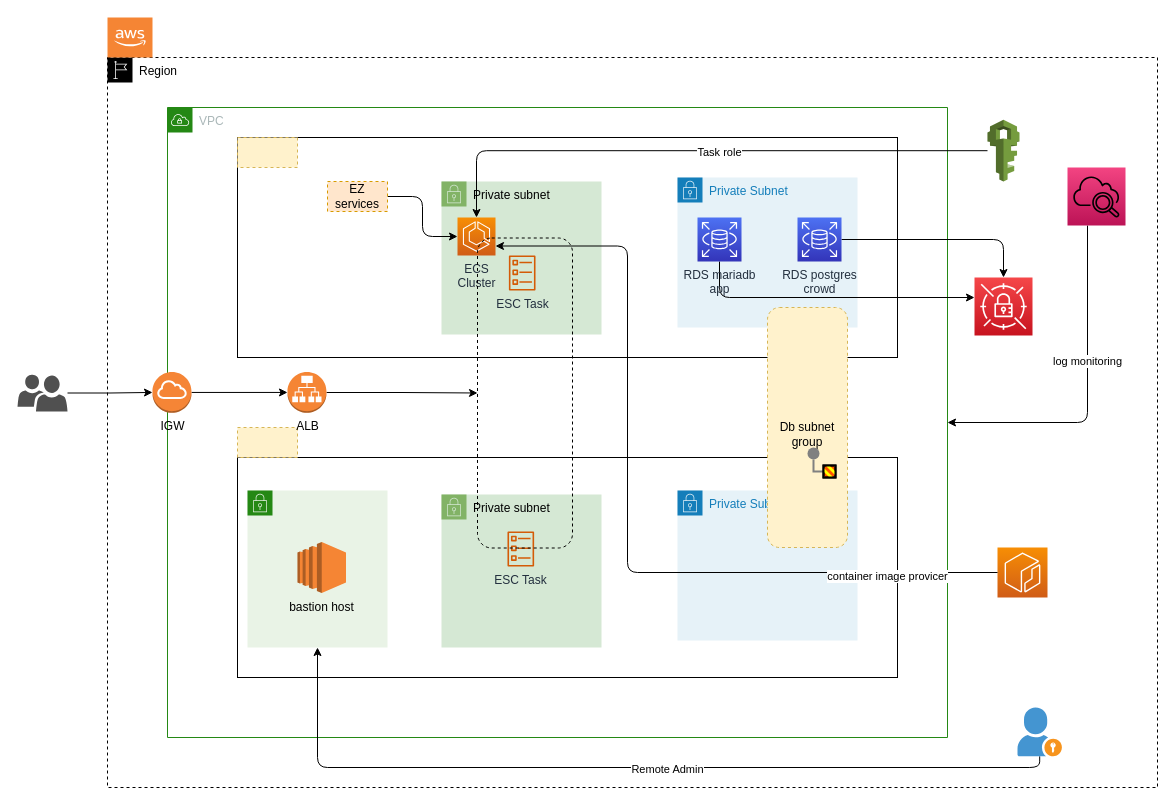
Image size: 1175x805. Some labels were removed from this diagram. Here are the shapes that lost their labels. From the top down, the box of each, then its label:
(236, 136, 298, 168): AZ#1
(986, 119, 1020, 182): IAM
(1066, 166, 1126, 226): Cloudwatch
(974, 276, 1032, 336): System manager
(236, 426, 298, 458): AZ#2
(246, 490, 388, 648): Public subnet
(996, 546, 1048, 598): AWS ECR
